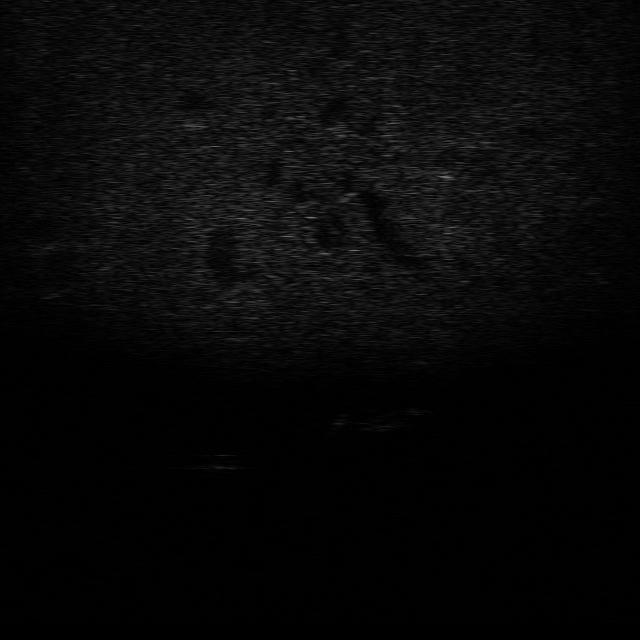ball: (190, 449, 246, 474)
human body: (316, 403, 425, 435)
